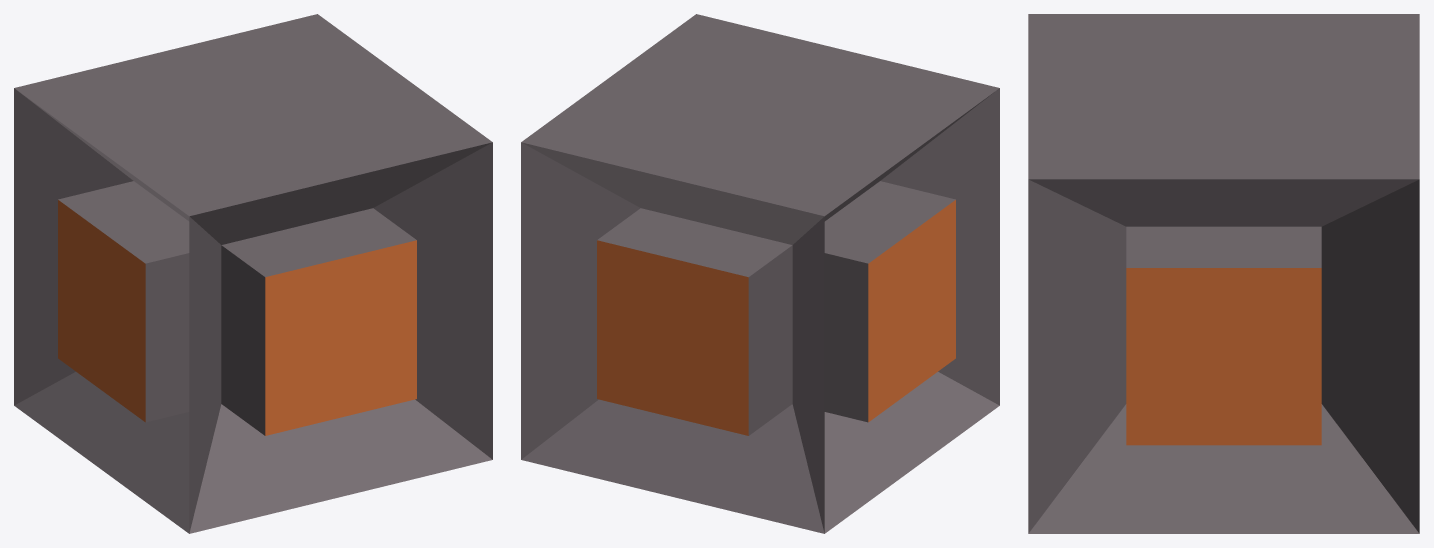
The model's file is CubeWithLight.fbx.
3 renders of one model, left to right at view 1: azimuth 30°, elevation 25°; view 2: azimuth 150°, elevation 25°; view 3: azimuth 270°, elevation 25°, orthographic. The views are drawn at different scales.
Parts seen in each view (by area): view 1: Cube; view 2: Cube; view 3: Cube.
Boxes of the visible parts, bbox=[...] form: Cube: bbox=[14, 14, 492, 533]; Cube: bbox=[521, 14, 999, 533]; Cube: bbox=[1028, 14, 1419, 533].
Bounding box in the file's own units: 200 × 200 × 200.
